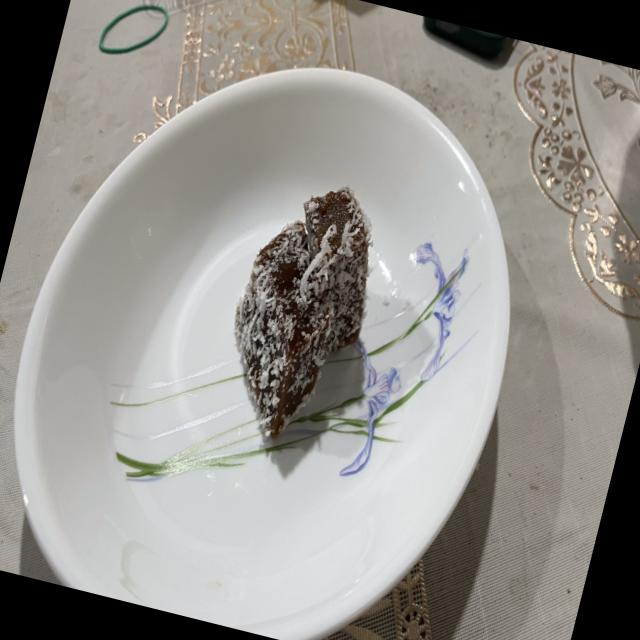kaswi: (234, 220, 328, 441), (303, 182, 369, 350)
